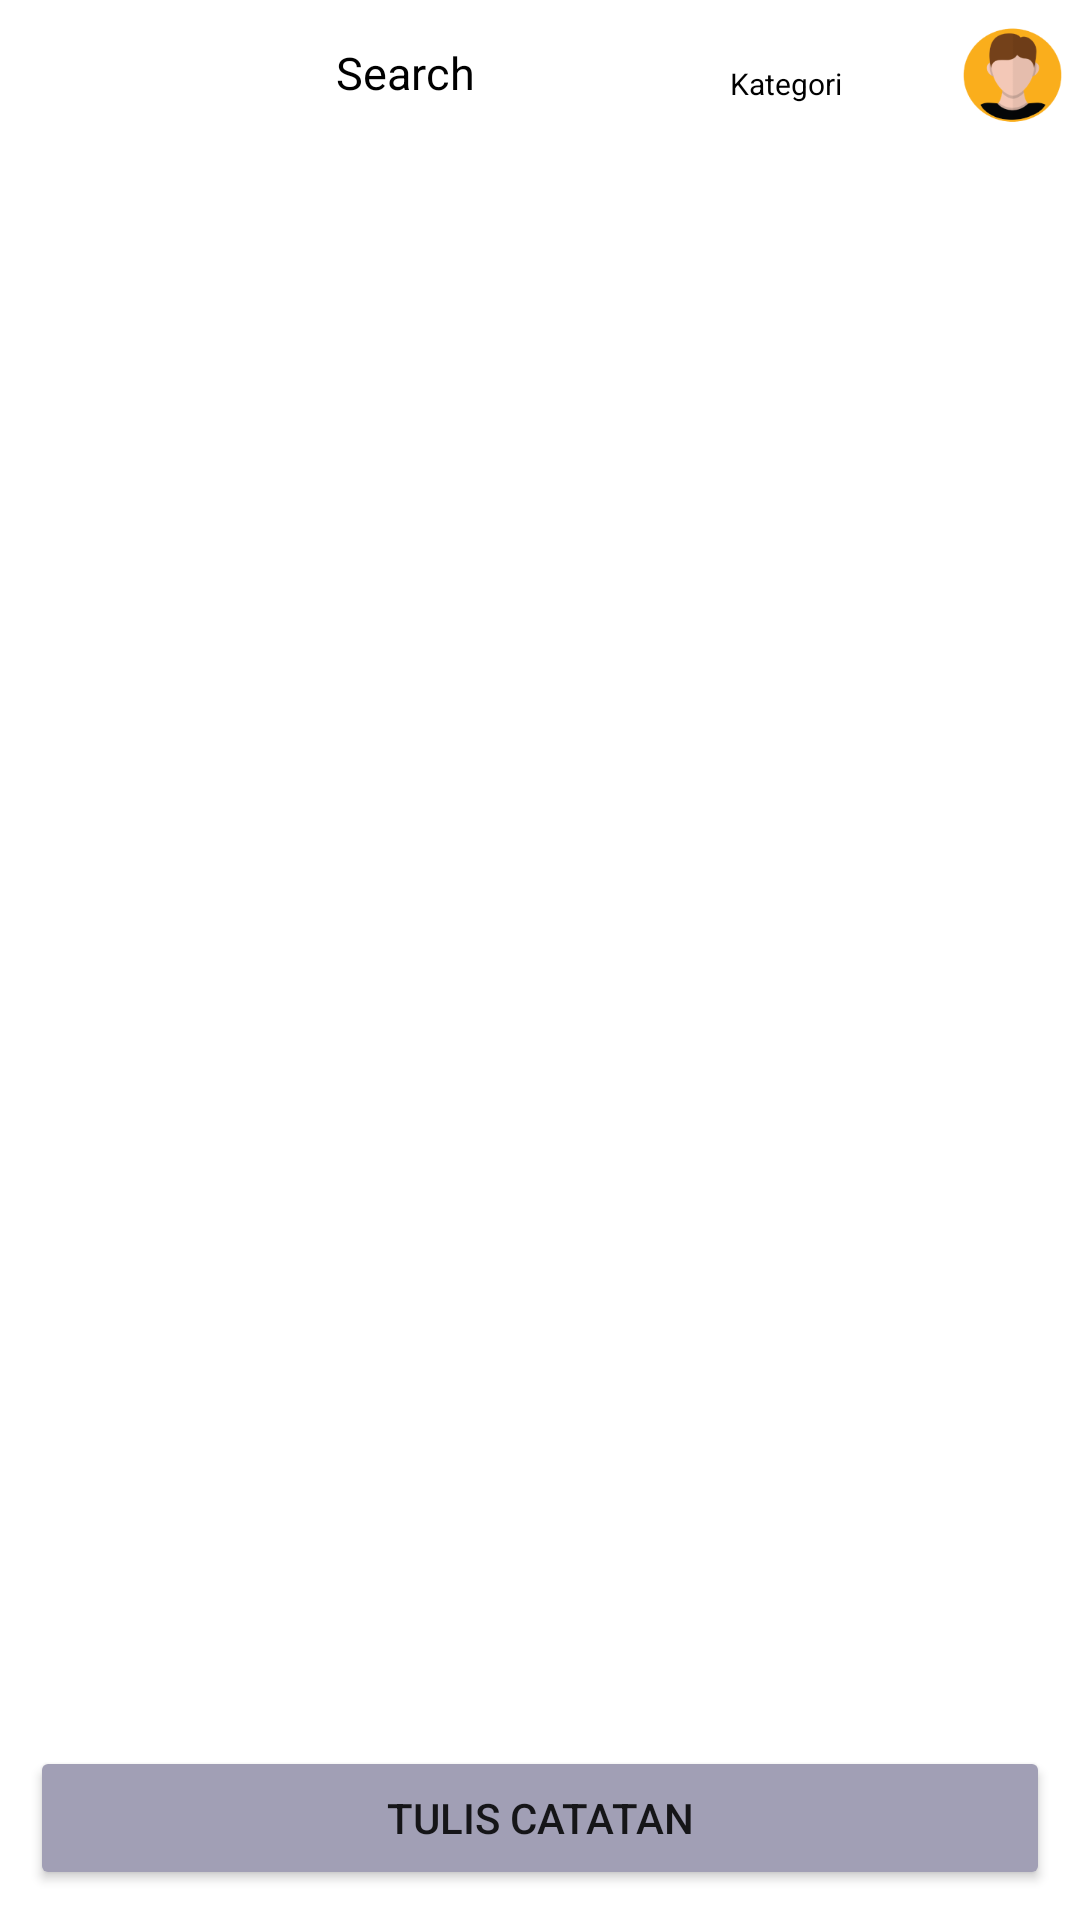

Named icons in this screenshot (1080w x 1920h) and their bounding boxes, (x1, y1, x2, y2):
akun: (963, 28, 1062, 122)
